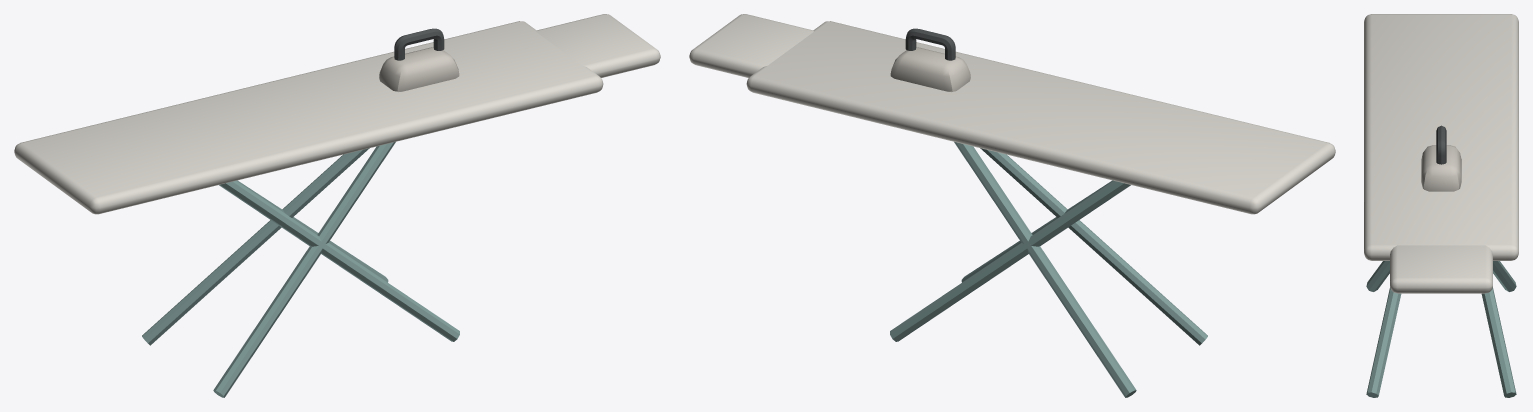
The model's file is ironing_board.glb.
3 views of the same model, side by side, from view 1: azimuth 30°, elevation 25°; view 2: azimuth 150°, elevation 25°; view 3: azimuth 270°, elevation 25° (orthographic). The views are drawn at different scales.
Parts seen in each view (by area): view 1: sheet, paint, steel, rubber; view 2: sheet, paint, steel, rubber; view 3: sheet, paint, steel, rubber.
Boxes of the visible parts, <box> form: sheet: <box>14,14,660,214</box>; paint: <box>142,142,459,397</box>; steel: <box>379,47,459,92</box>; rubber: <box>394,28,444,60</box>; sheet: <box>689,14,1335,214</box>; paint: <box>890,142,1207,397</box>; steel: <box>890,47,970,92</box>; rubber: <box>905,28,955,60</box>; sheet: <box>1364,14,1518,293</box>; paint: <box>1366,261,1516,397</box>; steel: <box>1421,145,1461,191</box>; rubber: <box>1436,125,1446,164</box>.
Bounding box in the file's own units: 1.48 × 0.6835 × 0.36.
